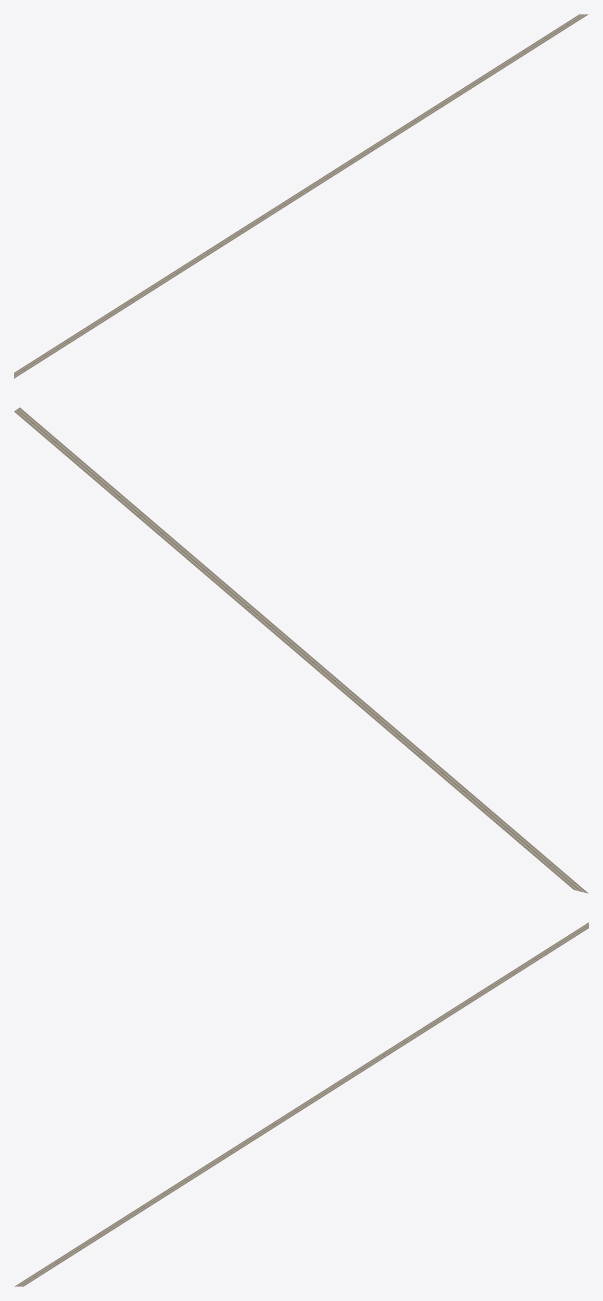
3 renders of one model, top to bottom at view 1: azimuth 90°, elevation 25°; view 2: azimuth 150°, elevation 25°; view 3: azimuth 270°, elevation 25°, orthographic. The views are drawn at different scales.
Visible parts, largest first — view 1: rail; view 2: rail; view 3: rail.
Boxes of the visible parts, x1=… form: rail: x1=14, y1=14, x2=588, y2=378; rail: x1=14, y1=407, x2=588, y2=893; rail: x1=14, y1=922, x2=588, y2=1286.
Bounding box in the file's own units: 396 × 0.04 × 264.
